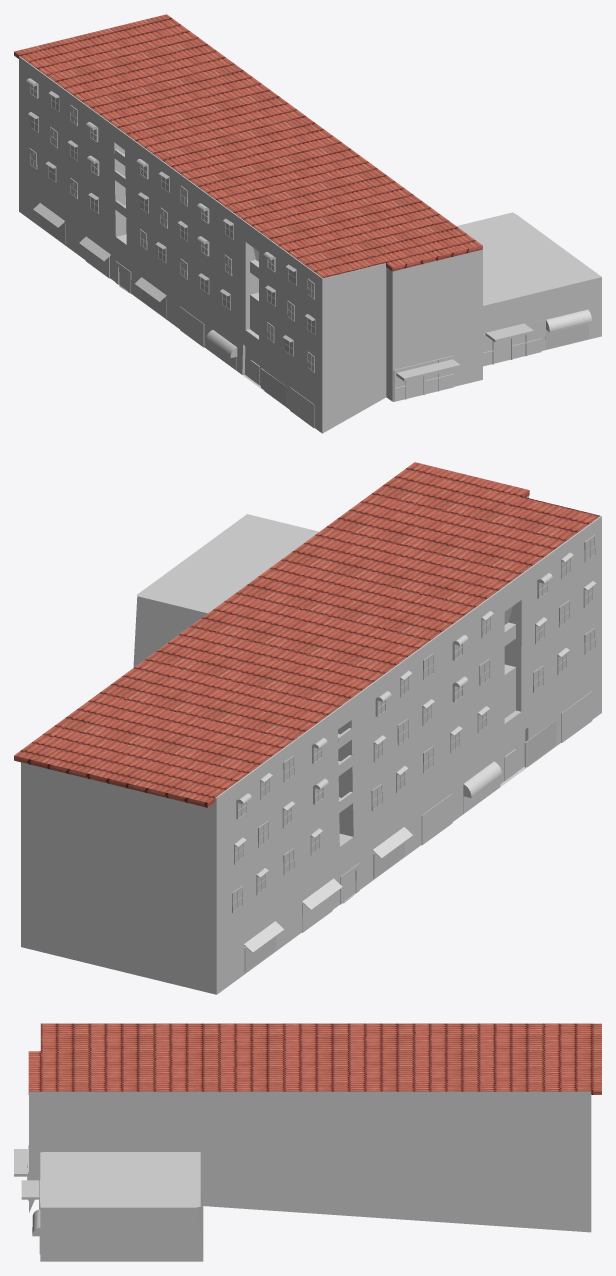
Rendered from stationen.fbx.
3 views of the same model, one above another, from view 1: azimuth 30°, elevation 25°; view 2: azimuth 150°, elevation 25°; view 3: azimuth 270°, elevation 25° (orthographic). The views are drawn at different scales.
Visible parts, largest first — view 1: Cube.001, Roof, Plane, Cube.009, Entrance, Cube.011, Cube.007, Cube.008; view 2: Cube.001, Roof, Plane, Cube.007, Cube.008, Cube.010; view 3: Cube.001, Roof, Plane.
Part boxes in pixels (x1,y1,x2,y2): Cube.001: [19, 20, 601, 433]; Roof: [14, 14, 482, 278]; Plane: [456, 212, 599, 304]; Cube.009: [483, 320, 541, 366]; Entrance: [393, 355, 454, 401]; Cube.011: [545, 323, 589, 349]; Cube.007: [180, 306, 204, 347]; Cube.008: [290, 387, 314, 427]; Cube.001: [21, 463, 601, 994]; Roof: [14, 462, 599, 807]; Plane: [136, 515, 317, 613]; Cube.007: [421, 793, 452, 845]; Cube.008: [561, 691, 592, 742]; Cube.010: [524, 720, 556, 767]; Cube.001: [14, 1023, 591, 1261]; Roof: [28, 1023, 601, 1094]; Plane: [43, 1152, 200, 1206].
Bounding box in the file's own units: 33.99 × 17.77 × 66.55.
